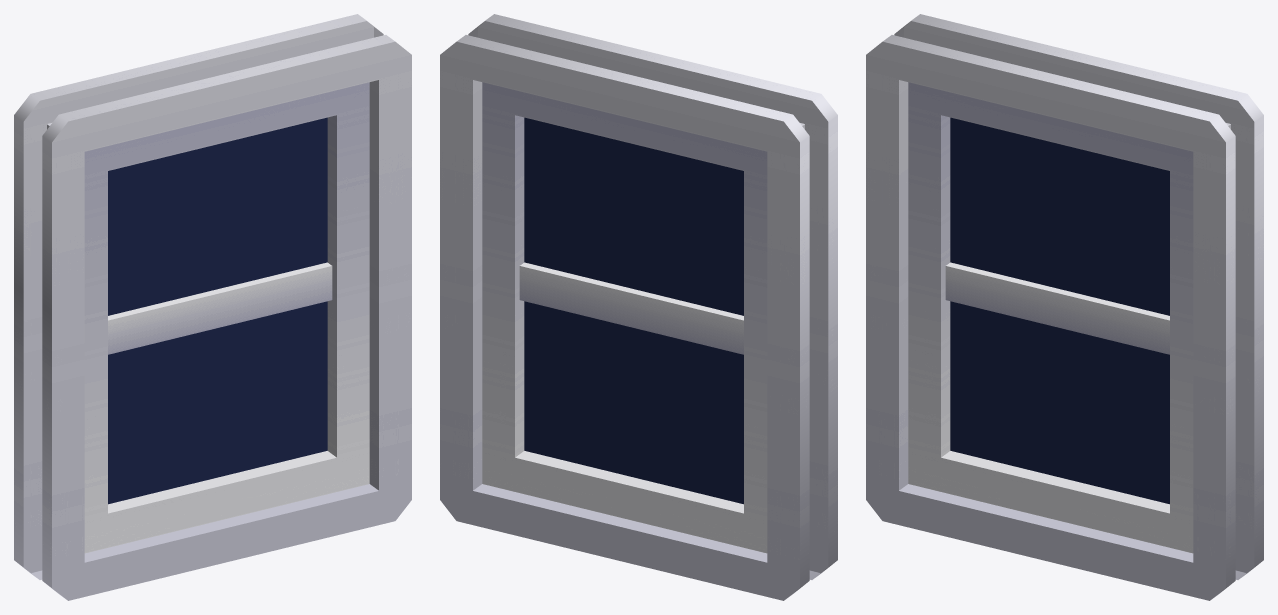
Rendered from Prop_Poster.glb.
3 renders of one model, left to right at view 1: azimuth 30°, elevation 25°; view 2: azimuth 150°, elevation 25°; view 3: azimuth 330°, elevation 25°, orthographic.
Parts seen in each view (by area): view 1: Prop_Poster; view 2: Prop_Poster; view 3: Prop_Poster.
Boxes of the visible parts, left/top/right/bottom form: Prop_Poster: left=14, top=14, right=411, bottom=600; Prop_Poster: left=440, top=14, right=837, bottom=600; Prop_Poster: left=866, top=14, right=1263, bottom=600.
Bounding box in the file's own units: 1.1 × 1.4 × 0.2.
Materials: 2 (1 with a texture image).
